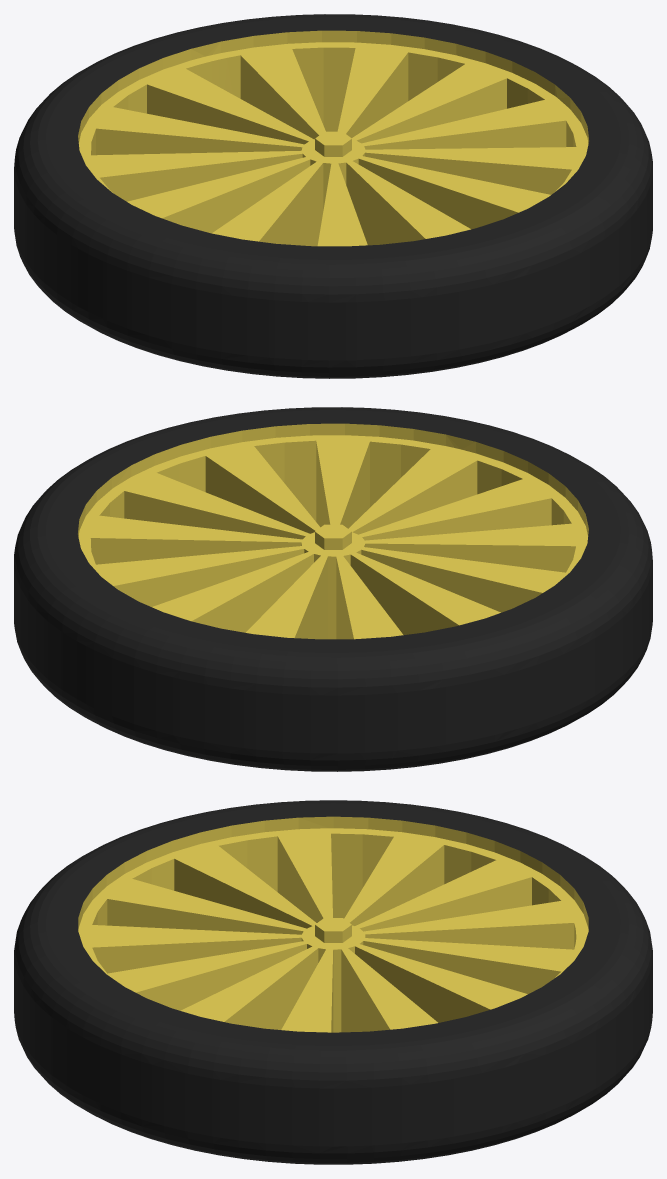
Rendered from wheel.dae.
3 renders of one model, top to bottom at view 1: azimuth 30°, elevation 25°; view 2: azimuth 150°, elevation 25°; view 3: azimuth 270°, elevation 25°, orthographic.
Visible parts, largest first — view 1: wheel; view 2: wheel; view 3: wheel.
Boxes of the visible parts, <box> form: wheel: <box>14,14,652,378</box>; wheel: <box>14,407,652,771</box>; wheel: <box>14,800,652,1164</box>.
Bounding box in the file's own units: 0.1 × 0.1 × 0.02.
